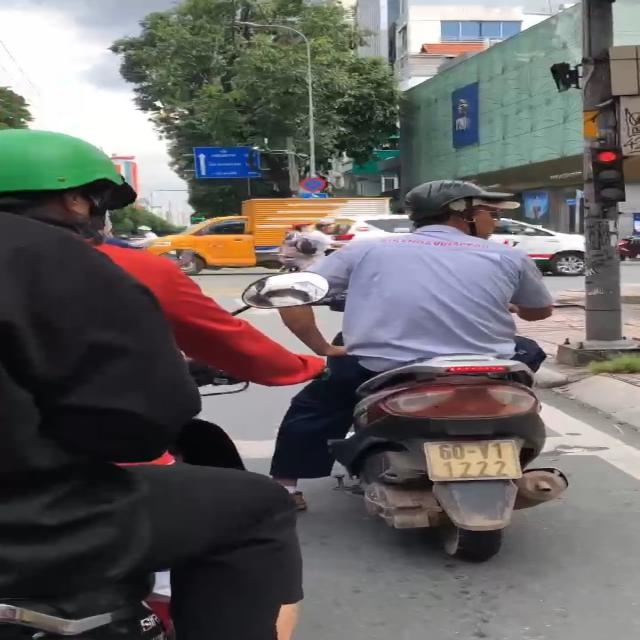Bien bao cam dung xe va do xe: (297, 172, 333, 195)
